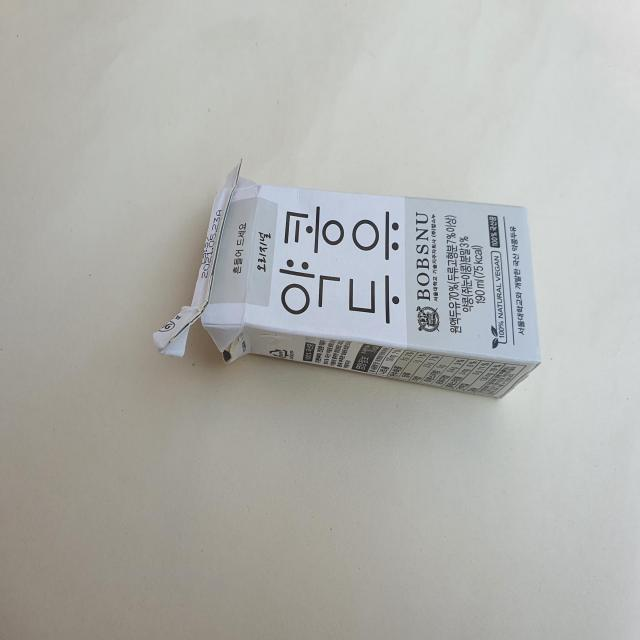paperpack: (154, 168, 541, 397)
